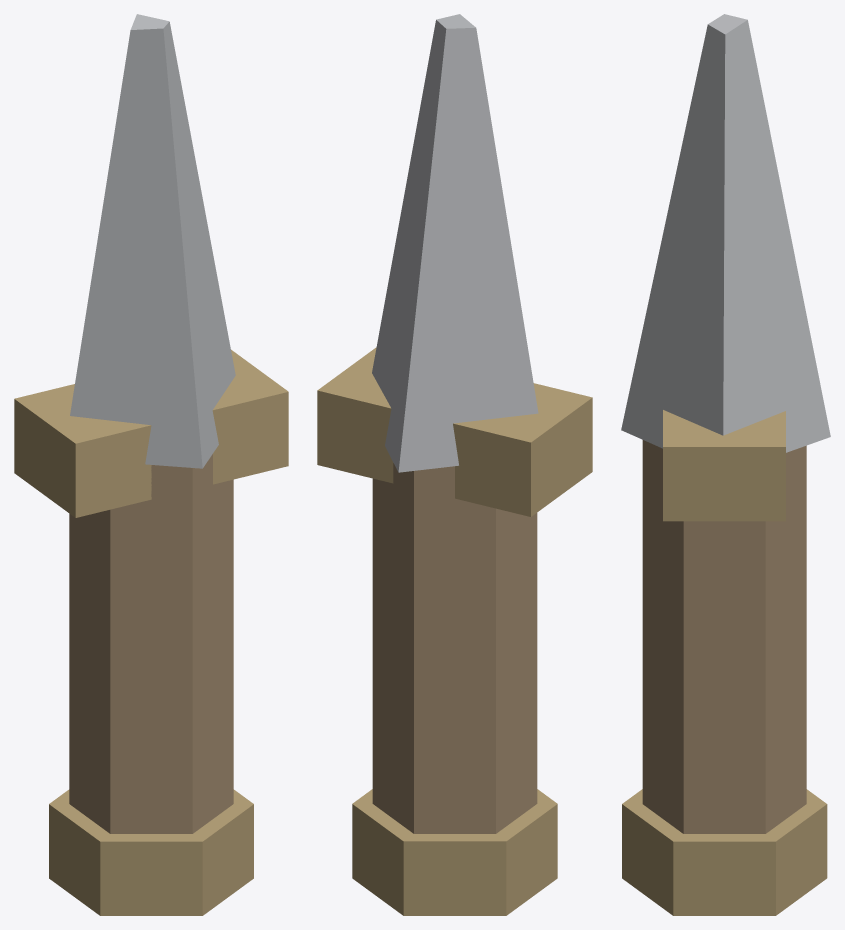
File: sticker.glb
The picture shows the model from 3 angles, left to right: view 1: azimuth 30°, elevation 25°; view 2: azimuth 150°, elevation 25°; view 3: azimuth 270°, elevation 25°; orthographic projection.
Parts seen in each view (by area): view 1: sticker; view 2: sticker; view 3: sticker.
Part boxes in pixels (bbox=[...]): sticker: bbox=[14, 14, 288, 915]; sticker: bbox=[317, 14, 592, 915]; sticker: bbox=[621, 14, 830, 915].
Size of the model in its own units: 0.12 by 0.4609 by 0.1022.
